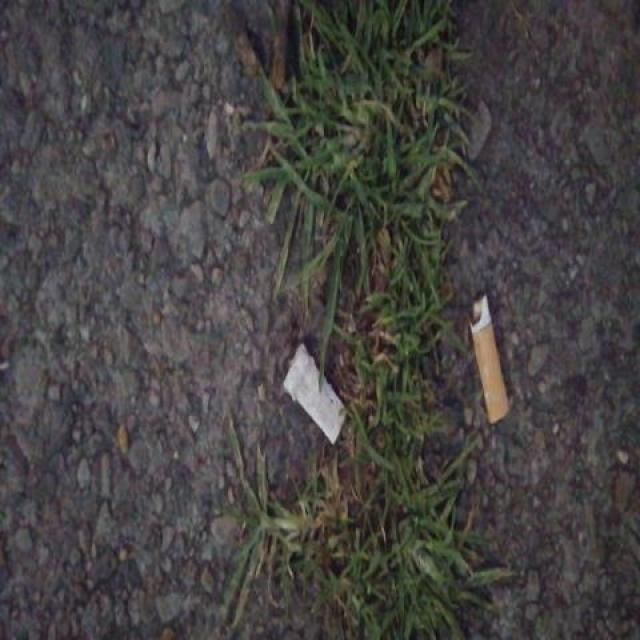non-organic waste: (280, 339, 352, 450), (462, 291, 514, 428)
